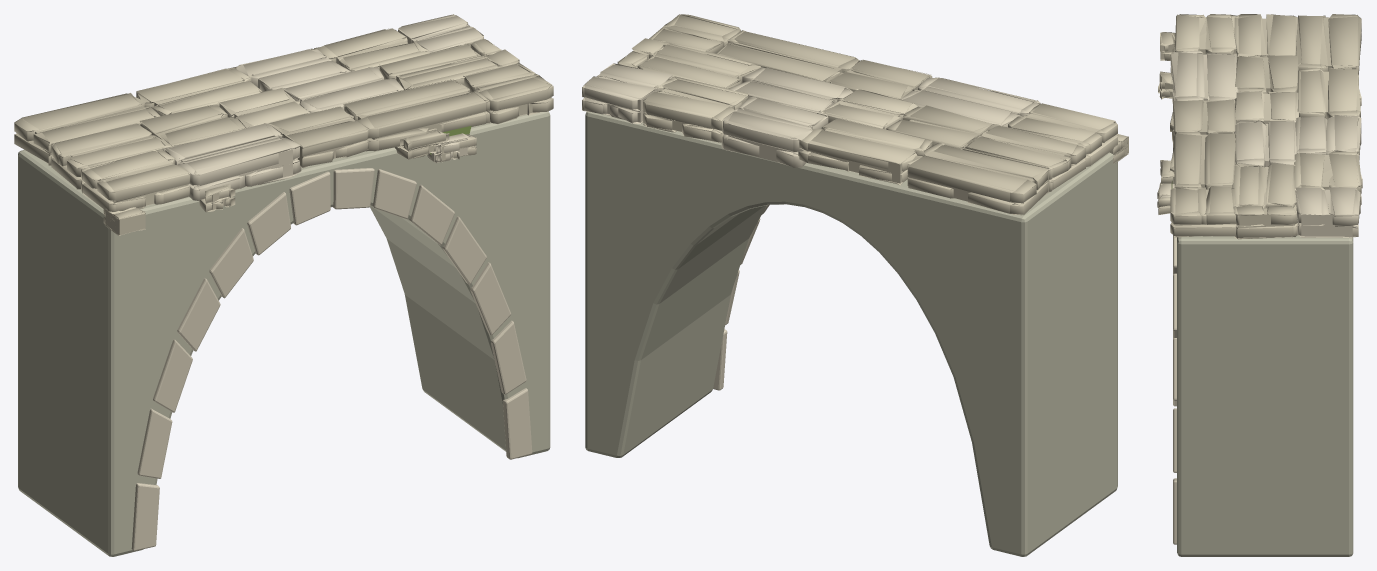
Rendered from bridge-06.glb.
The picture shows the model from 3 angles, left to right: view 1: azimuth 30°, elevation 25°; view 2: azimuth 150°, elevation 25°; view 3: azimuth 270°, elevation 25°; orthographic projection. The views are drawn at different scales.
Parts seen in each view (by area): view 1: Continuous arch foundation.005, CC0 worn paving.060, CC0 worn paving.062, CC0 worn paving.059, CC0 worn paving.070, CC0 worn paving.061, CC0 worn paving.064, CC0 worn paving.063, CC0 worn paving.071, CC0 worn paving.068, CC0 worn paving.067, CC0 worn paving.072 (+22 smaller); view 2: Continuous arch foundation.005, CC0 worn paving.070, CC0 worn paving.071, CC0 worn paving.072, CC0 worn paving.073, CC0 worn paving.062, CC0 worn paving.064, CC0 worn paving.060, CC0 worn paving.074, CC0 worn paving.059, CC0 worn paving.067, CC0 worn paving.068 (+5 smaller); view 3: Continuous arch foundation.005, CC0 worn paving.070, CC0 worn paving.062, CC0 worn paving.063, CC0 worn paving.060, CC0 worn paving.074, CC0 worn paving.071, CC0 worn paving.067, CC0 worn paving.064, CC0 worn paving.068, CC0 worn paving.072, CC0 worn paving.073 (+9 smaller).
Boxes of the visible parts, x1,y1,x2,y2 form: Continuous arch foundation.005: (18,111,550,556); CC0 worn paving.060: (162,123,301,201); CC0 worn paving.062: (343,79,489,151); CC0 worn paving.059: (81,149,190,211); CC0 worn paving.070: (14,93,160,165); CC0 worn paving.061: (269,106,369,168); CC0 worn paving.064: (51,123,174,189); CC0 worn paving.063: (461,62,553,123); CC0 worn paving.071: (136,66,262,115); CC0 worn paving.068: (378,44,498,89); CC0 worn paving.067: (283,66,403,113); CC0 worn paving.072: (235,48,350,91); Continuous arch foundation.005: (585,111,1117,556); CC0 worn paving.070: (907,141,1052,215); CC0 worn paving.071: (798,118,932,185); CC0 worn paving.072: (721,96,828,167); CC0 worn paving.073: (643,76,748,143); CC0 worn paving.062: (715,30,860,82); CC0 worn paving.064: (965,124,1085,189); CC0 worn paving.060: (901,77,1040,128); CC0 worn paving.074: (582,63,672,123); CC0 worn paving.059: (1008,103,1117,166); CC0 worn paving.067: (727,67,853,114); CC0 worn paving.068: (637,43,761,90); Continuous arch foundation.005: (1177,235,1353,556); CC0 worn paving.070: (1296,14,1361,84); CC0 worn paving.062: (1170,131,1236,189); CC0 worn paving.063: (1170,186,1239,237); CC0 worn paving.060: (1170,50,1238,103); CC0 worn paving.074: (1294,187,1360,237); CC0 worn paving.071: (1297,68,1361,121); CC0 worn paving.067: (1234,120,1296,166); CC0 worn paving.064: (1231,14,1297,58); CC0 worn paving.068: (1232,163,1296,208); CC0 worn paving.072: (1295,115,1361,159); CC0 worn paving.073: (1294,151,1362,206).
Size of the model in its own units: 6 by 4.78 by 2.58.
